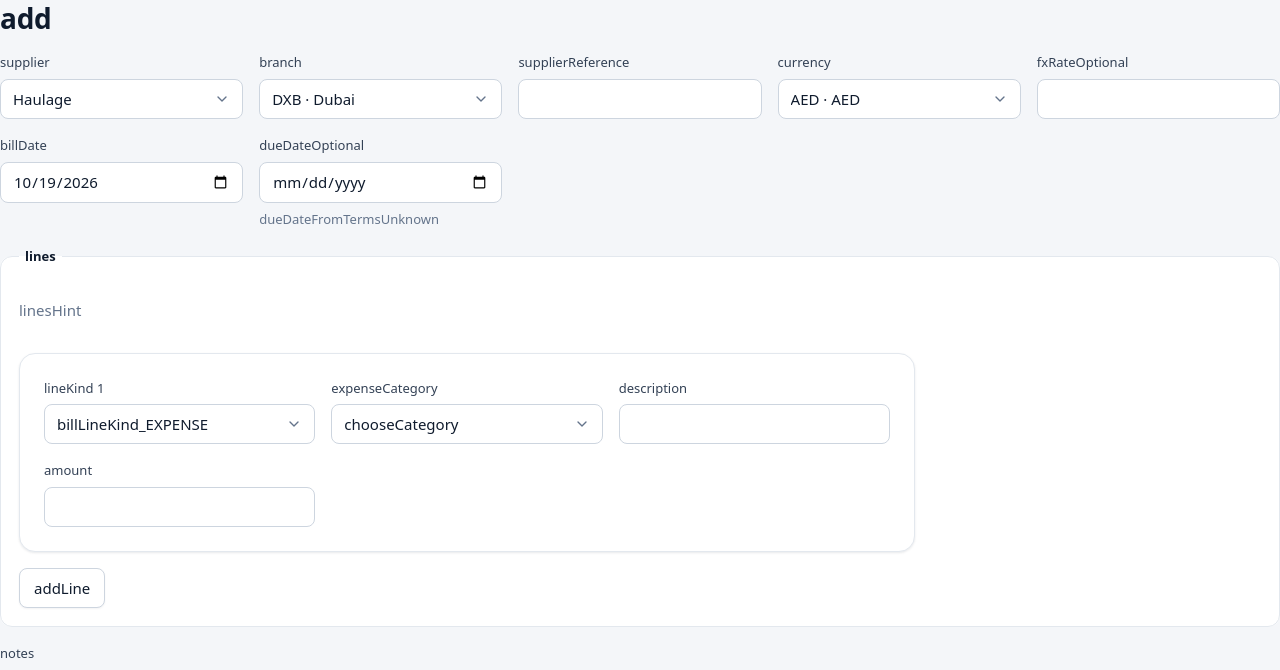
Test: SupplierBillForm defaults (functional review C1, C2, C4, C9, C10) › starts in the branch's currency and today, with the due date left to the terms
Select "Haulage" in the dropdown labelled "supplier" at (122, 99), box [0,79,243,119]
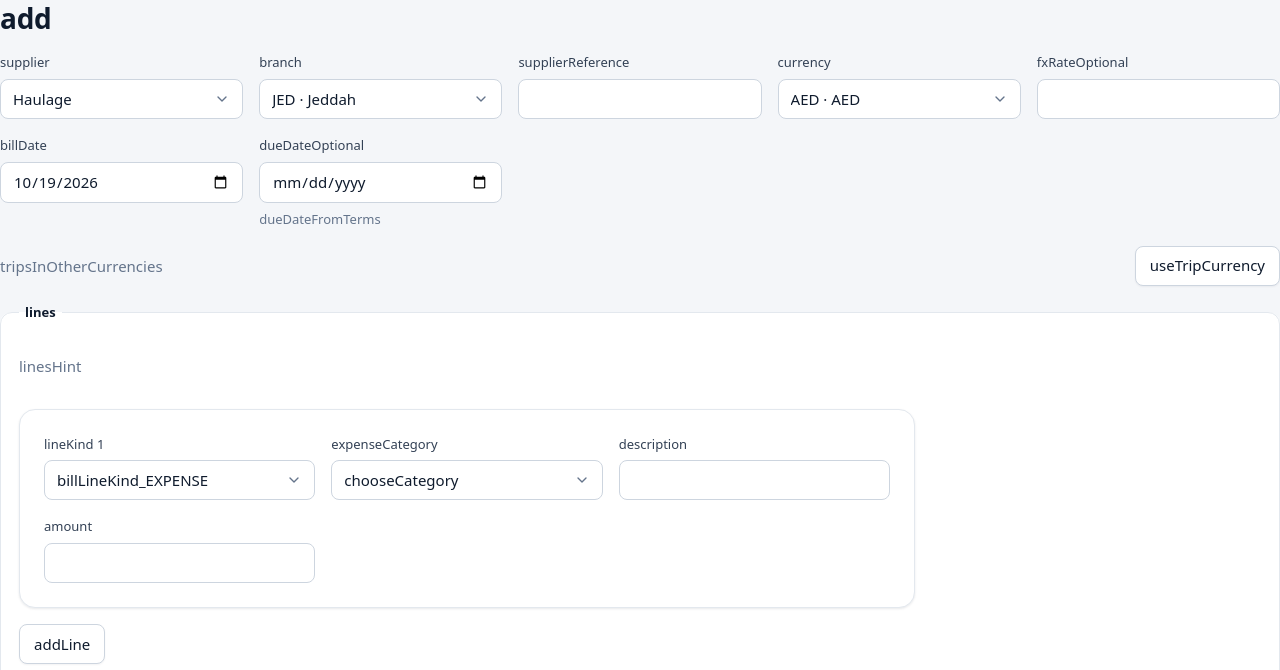
Expected: the dropdown labelled "currency" shows "AED · AED", [778,79,1021,119]
Expected: the date field labelled "billDate" holds "2026-10-19", [0,162,243,203]
Select "JED · Jeddah" in the dropdown labelled "branch" at (381, 99), box [259,79,502,119]
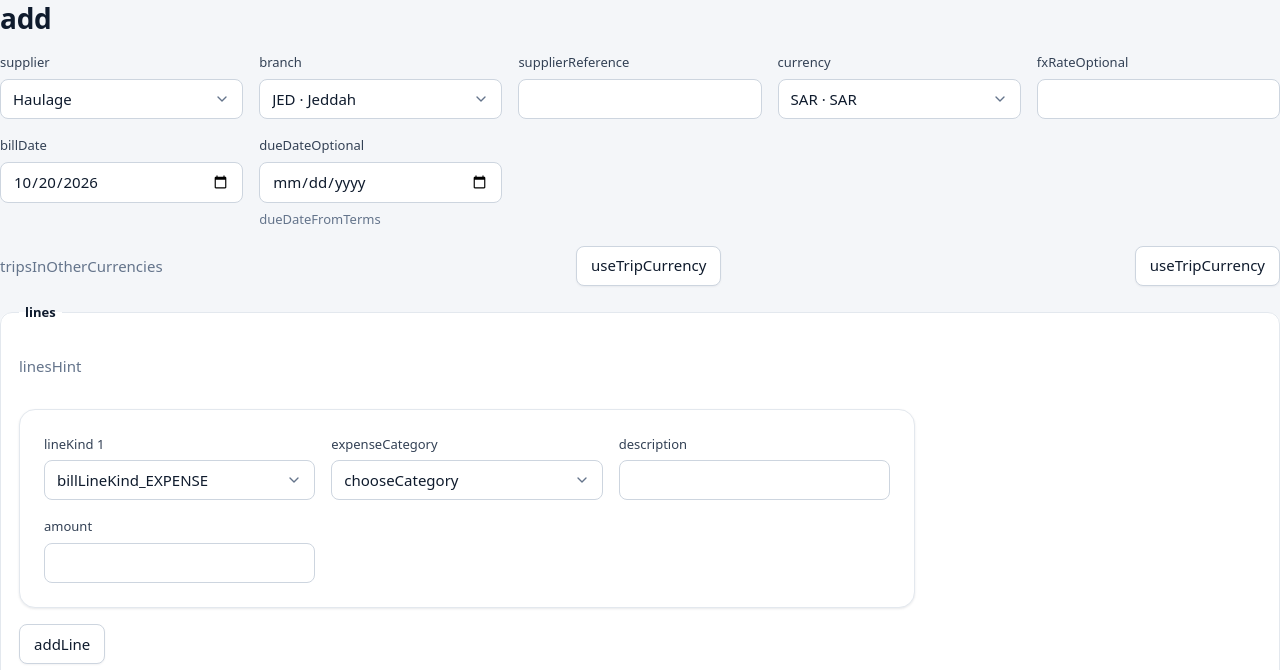
Now the dropdown labelled "currency" shows "SAR · SAR", box [778,79,1021,119]
Now the date field labelled "billDate" holds "2026-10-20", box [0,162,243,203]
